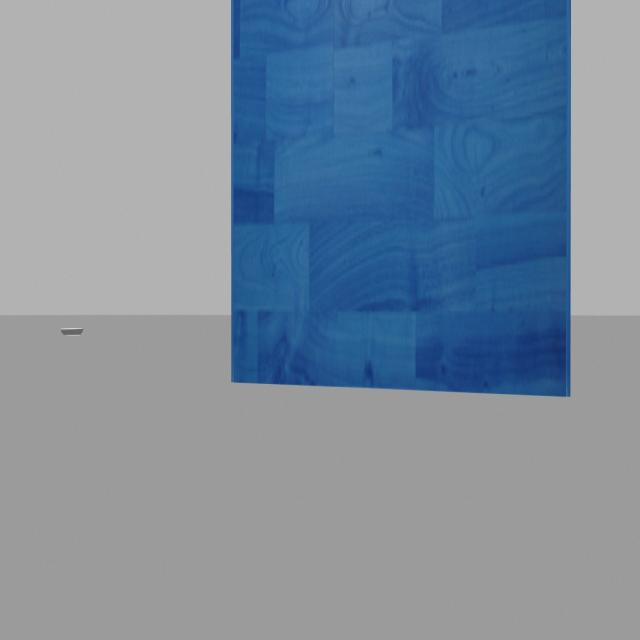bowl: (57, 319, 93, 348)
shelf: (224, 0, 578, 403)
